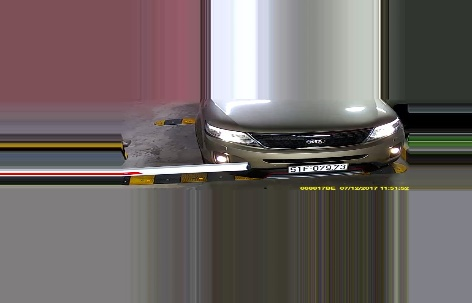plate: (286, 161, 350, 172)
